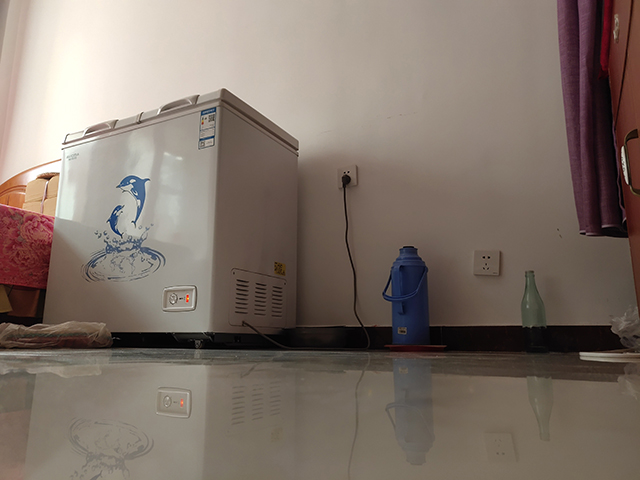bed: (1, 156, 63, 327)
cabinet: (604, 1, 640, 354)
wire: (241, 172, 372, 351)
